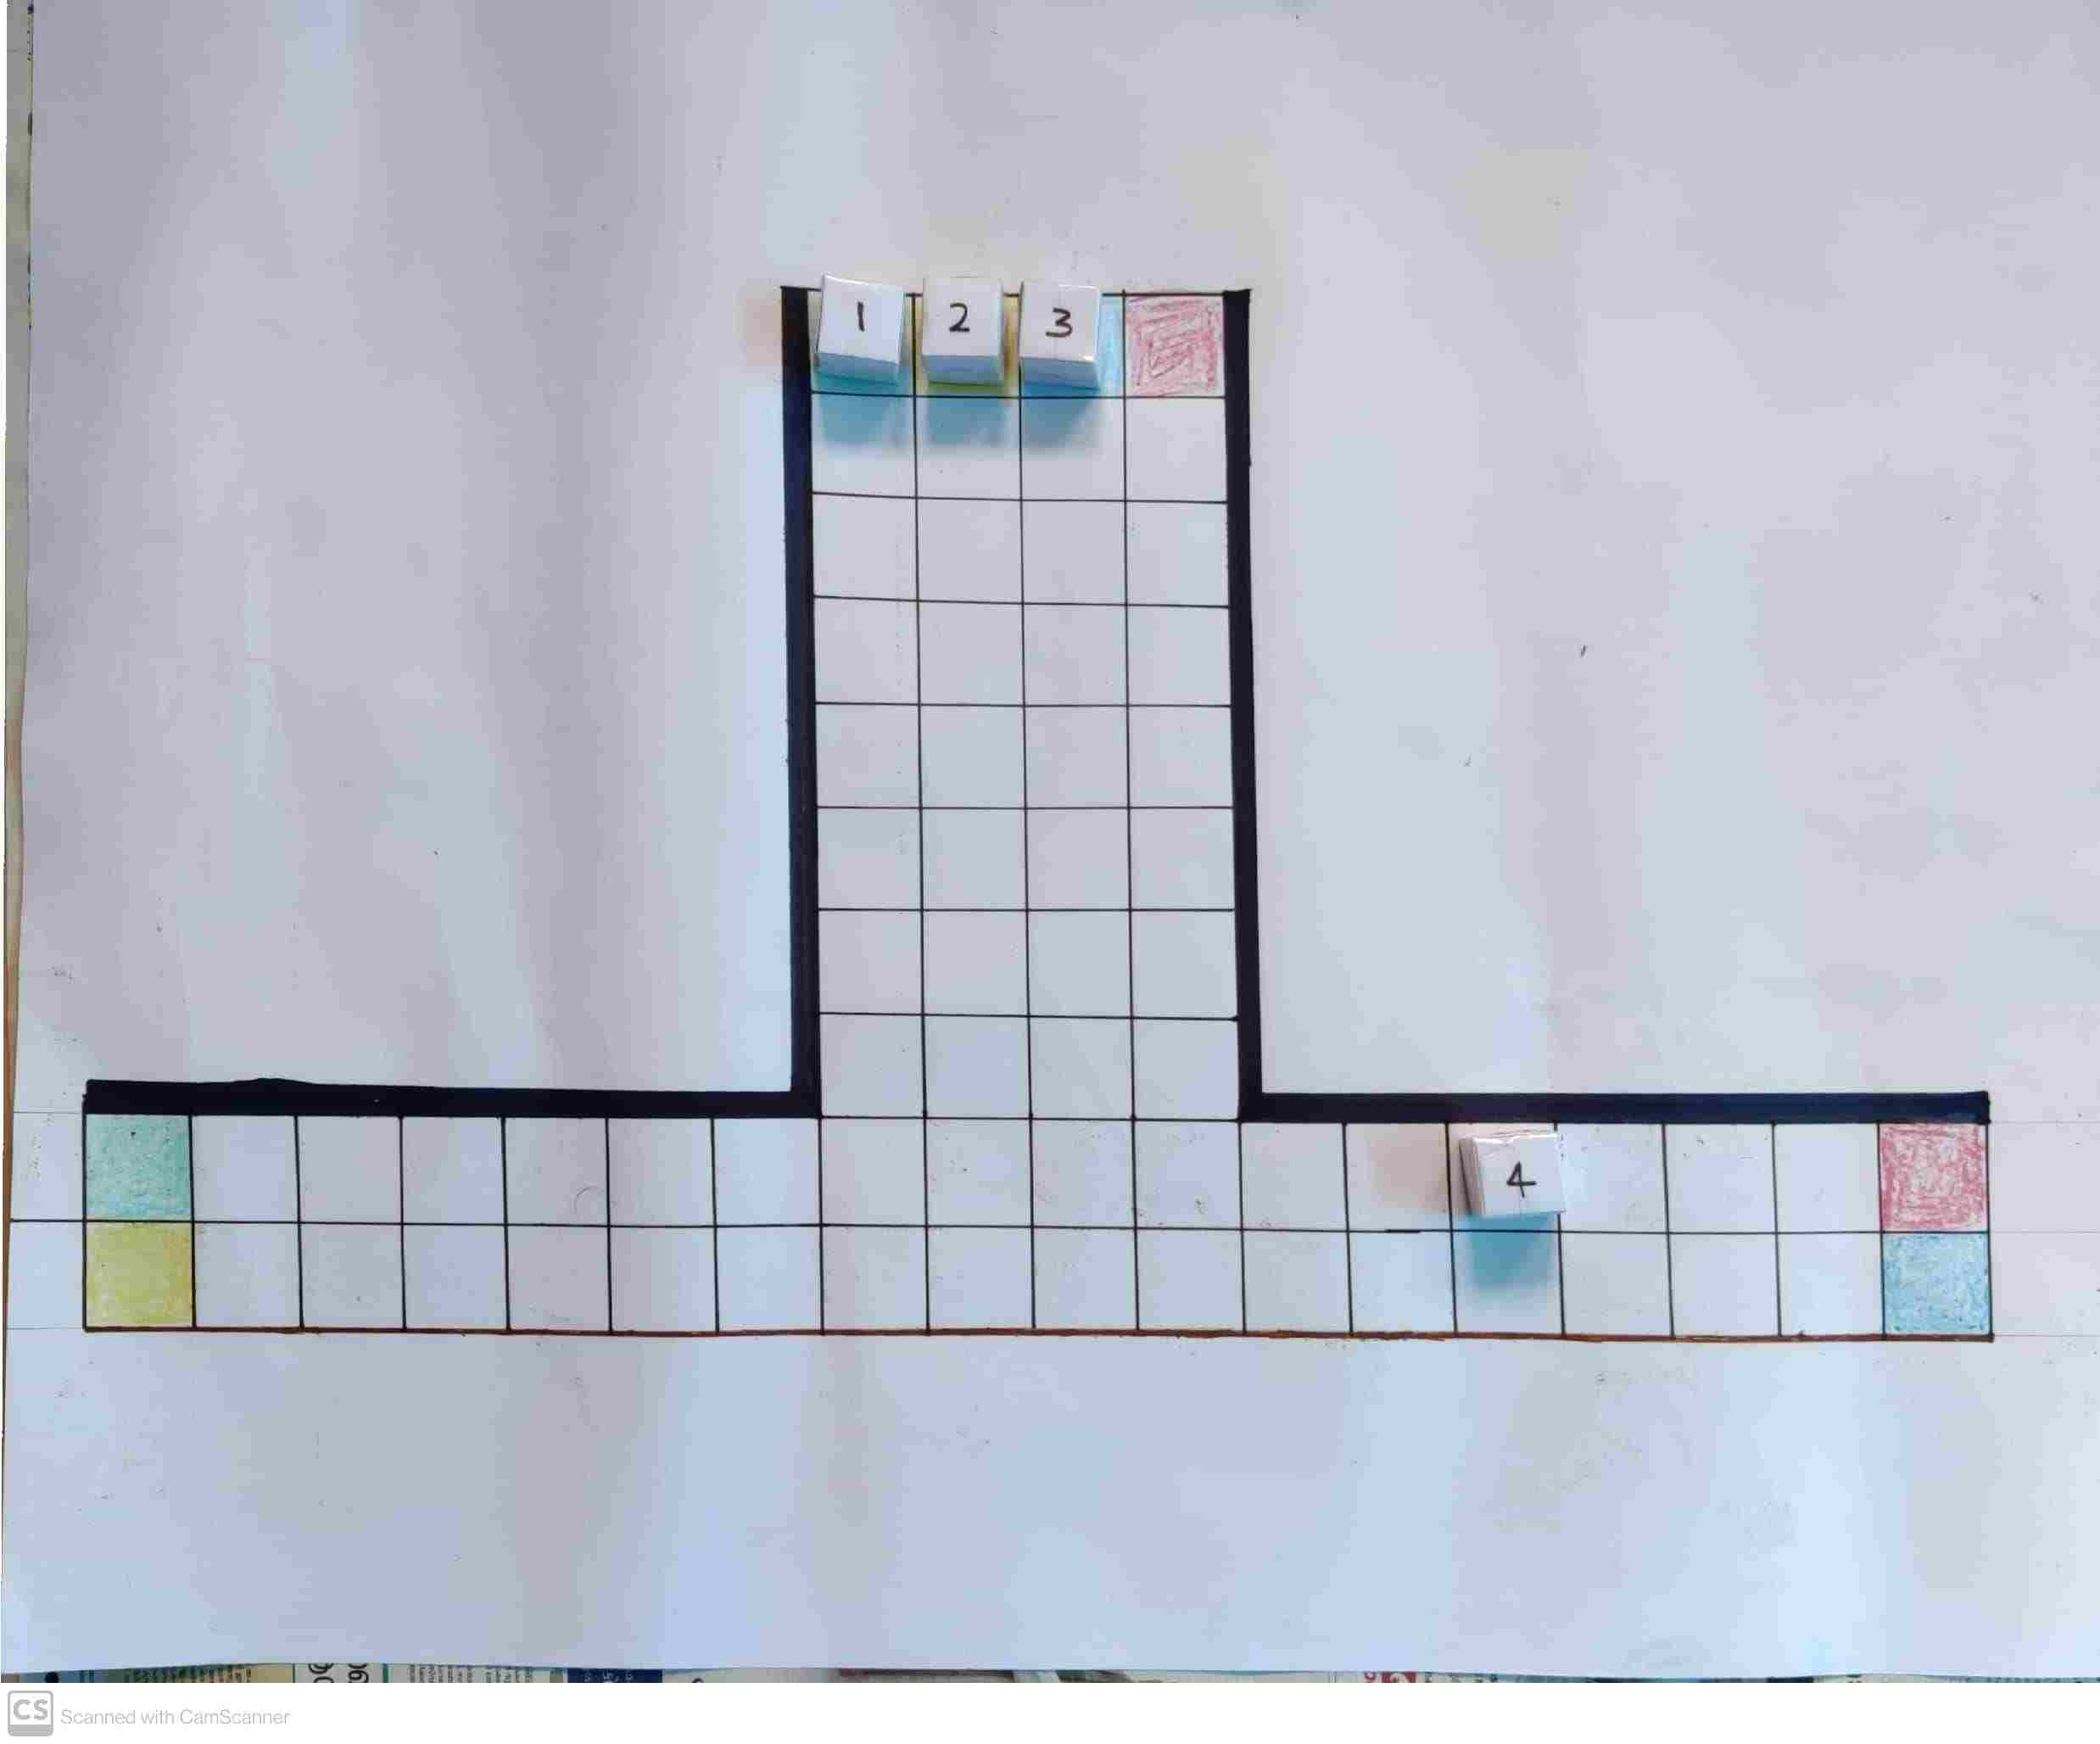arena: (82, 286, 1992, 1341)
bot: (1472, 1134, 1566, 1216), (825, 277, 907, 359), (1017, 283, 1104, 358), (926, 283, 1003, 359)
